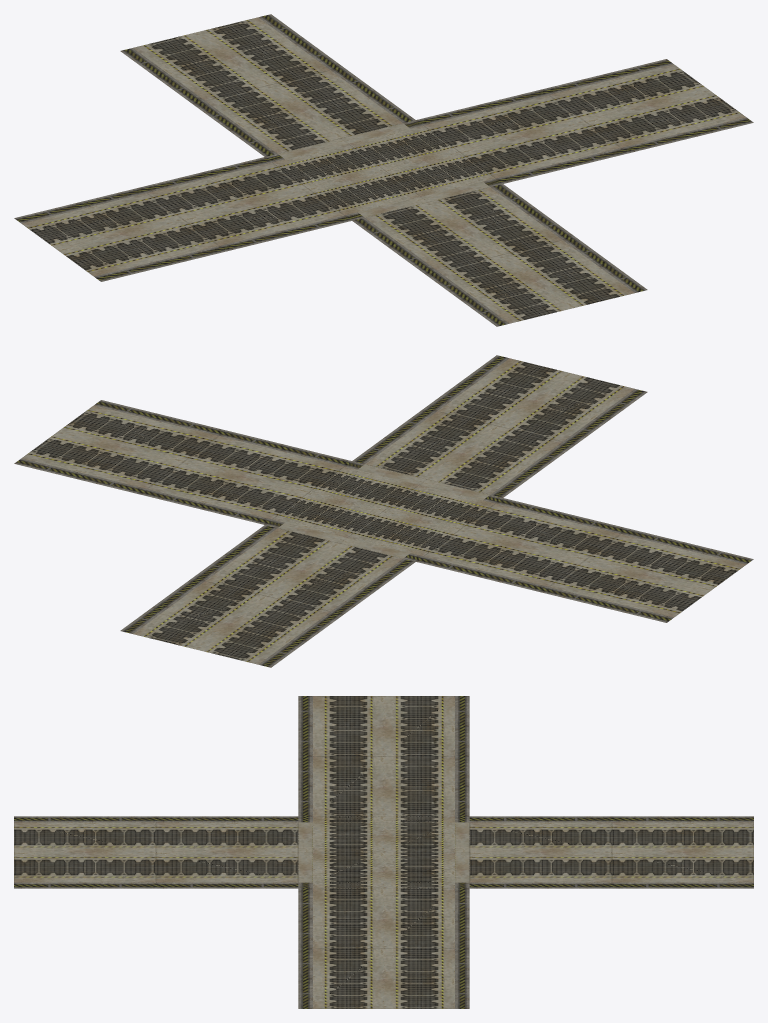
The model's file is road.fbx.
3 renders of one model, top to bottom at view 1: azimuth 30°, elevation 25°; view 2: azimuth 150°, elevation 25°; view 3: azimuth 270°, elevation 25°, orthographic.
Parts seen in each view (by area): view 1: Mesh; view 2: Mesh; view 3: Mesh.
Part boxes in pixels (<box>): Mesh: <box>14,14,753,326</box>; Mesh: <box>14,355,753,667</box>; Mesh: <box>14,696,753,1008</box>.
Size of the model in its own units: 1041 by 0 by 1041.
